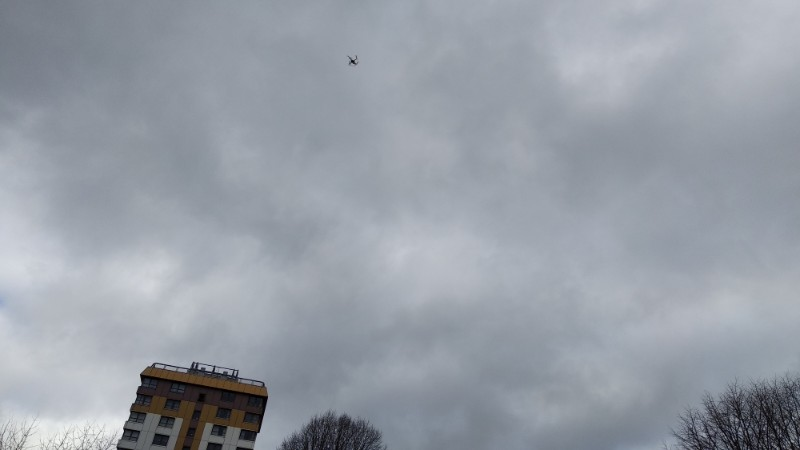drone: (347, 55, 359, 67)
